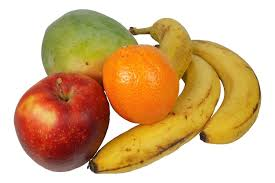apple: (13, 72, 111, 175)
banana: (96, 16, 265, 180)
orange: (102, 45, 181, 125)
